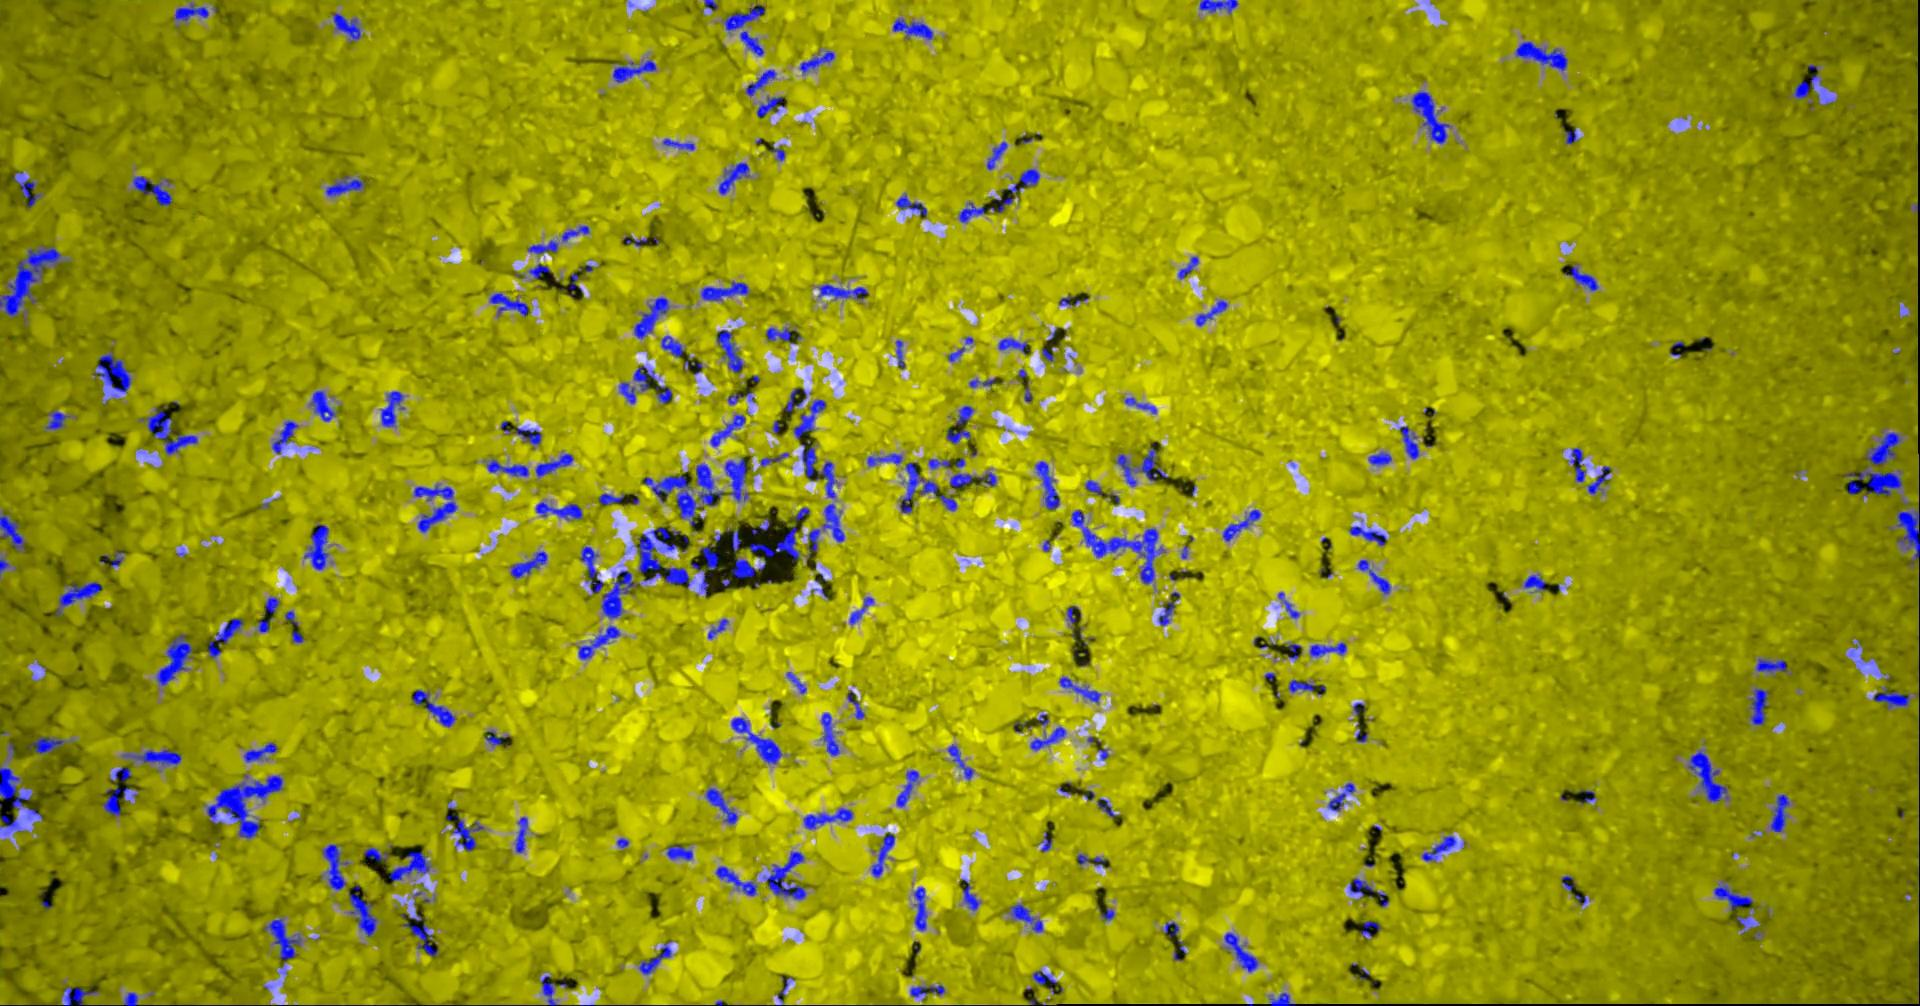ant: (957, 168, 1039, 222), (730, 525, 799, 578), (643, 475, 701, 525), (899, 462, 956, 512), (145, 406, 197, 453), (731, 716, 781, 763), (1115, 443, 1167, 486), (724, 3, 764, 55), (1688, 749, 1728, 801), (413, 484, 456, 532), (806, 503, 844, 558), (763, 851, 805, 899), (1411, 91, 1449, 144), (801, 439, 836, 497), (599, 570, 637, 619), (156, 634, 192, 685), (263, 918, 300, 965), (401, 909, 438, 955), (1844, 466, 1901, 495), (411, 688, 455, 727), (55, 580, 102, 615), (1515, 41, 1567, 70), (93, 352, 130, 391), (632, 297, 668, 338), (578, 625, 620, 659), (348, 885, 376, 936), (207, 617, 243, 657), (690, 546, 717, 594), (0, 766, 30, 809), (446, 814, 483, 850), (792, 399, 825, 438), (1224, 932, 1257, 970), (1896, 511, 1919, 564), (1222, 509, 1260, 541), (1035, 460, 1059, 509), (389, 851, 429, 880), (715, 866, 756, 895), (1864, 432, 1900, 465), (695, 464, 723, 506), (705, 788, 737, 824), (323, 843, 348, 889), (1357, 559, 1390, 593), (710, 414, 745, 446), (132, 177, 171, 205), (1349, 878, 1388, 906), (716, 329, 742, 372), (639, 940, 670, 974), (1059, 676, 1100, 702), (579, 546, 602, 593), (303, 525, 328, 569), (612, 58, 655, 83), (724, 457, 748, 500), (871, 832, 894, 876), (717, 163, 749, 194), (803, 808, 852, 828), (1713, 884, 1752, 909), (13, 171, 41, 207), (0, 513, 25, 551), (510, 551, 546, 578), (1421, 835, 1457, 861), (489, 292, 528, 315), (701, 281, 748, 300), (535, 500, 582, 520), (331, 11, 361, 42), (102, 786, 132, 815), (270, 420, 297, 453), (1010, 904, 1043, 931), (891, 18, 932, 39), (535, 453, 573, 476), (947, 744, 973, 779), (1793, 64, 1817, 98), (897, 768, 918, 807), (122, 749, 180, 763), (799, 50, 834, 72), (1030, 727, 1065, 749), (325, 175, 364, 196), (1564, 265, 1597, 290), (1872, 686, 1909, 708), (380, 391, 403, 426), (257, 597, 279, 631), (745, 69, 775, 95), (1195, 300, 1225, 325), (310, 390, 335, 420), (818, 283, 867, 298), (486, 459, 528, 476), (822, 713, 839, 754), (1327, 782, 1354, 810), (541, 976, 566, 1005), (1349, 526, 1385, 545), (1770, 794, 1789, 831), (1749, 688, 1768, 724), (61, 986, 97, 1005), (243, 742, 276, 762), (1587, 465, 1610, 494), (27, 735, 63, 753), (174, 3, 208, 22), (850, 596, 872, 624), (1399, 426, 1418, 459), (895, 194, 926, 215), (632, 365, 655, 391), (1277, 591, 1299, 619), (756, 97, 783, 117), (985, 141, 1006, 169), (1032, 970, 1057, 993), (913, 887, 926, 930), (961, 879, 979, 909), (1570, 447, 1585, 481), (1065, 605, 1081, 639), (783, 387, 805, 412), (775, 976, 792, 1005), (998, 338, 1029, 354), (1309, 641, 1345, 655), (1124, 398, 1156, 413), (514, 427, 541, 445), (786, 671, 806, 694), (561, 225, 589, 241), (847, 690, 863, 718), (44, 410, 69, 429), (1755, 658, 1787, 672), (1076, 854, 1107, 868), (1177, 257, 1197, 278), (662, 335, 683, 356), (1199, 0, 1237, 11), (516, 815, 527, 852), (1097, 798, 1119, 817), (764, 326, 794, 340), (759, 452, 789, 466), (949, 473, 971, 490), (665, 845, 692, 860), (1158, 601, 1175, 625), (867, 453, 902, 465), (527, 240, 557, 253), (707, 619, 728, 638), (0, 814, 22, 832), (662, 138, 695, 150), (725, 528, 742, 551), (910, 984, 943, 996), (946, 428, 970, 443), (1360, 920, 1380, 937), (568, 272, 582, 297), (1288, 680, 1316, 692), (655, 380, 670, 403), (1523, 574, 1545, 589), (728, 391, 754, 404), (1269, 992, 1295, 1005), (363, 847, 387, 861), (618, 382, 635, 403), (1059, 293, 1087, 305), (956, 405, 973, 424), (528, 263, 549, 278), (484, 730, 505, 744), (1084, 479, 1102, 495), (1368, 452, 1390, 465), (598, 493, 623, 504), (968, 377, 996, 387), (110, 767, 131, 781), (623, 235, 648, 246), (683, 359, 702, 373), (1355, 721, 1368, 742), (895, 340, 904, 368), (978, 473, 996, 486), (1735, 915, 1749, 932), (1286, 643, 1302, 658), (947, 347, 964, 361), (110, 550, 124, 567), (1578, 789, 1595, 803), (1561, 875, 1575, 890), (1164, 921, 1178, 936), (792, 507, 809, 520), (770, 146, 783, 160), (1041, 832, 1051, 851), (928, 459, 950, 467), (1564, 127, 1576, 144), (1100, 907, 1114, 920), (123, 992, 137, 1005), (1041, 345, 1053, 361), (291, 630, 303, 641), (703, 0, 717, 10), (1917, 940, 1919, 996)
